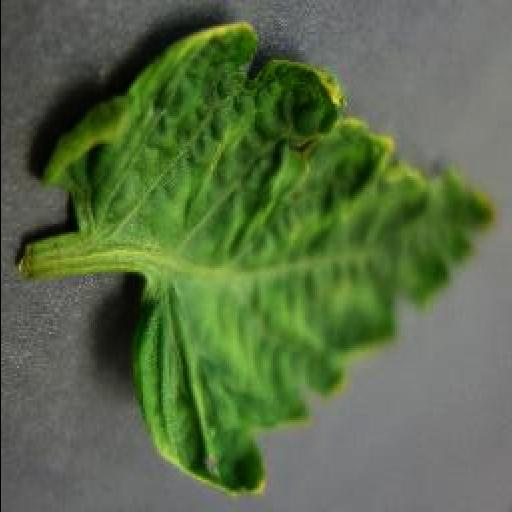disease_tomato: (42, 21, 494, 495)
